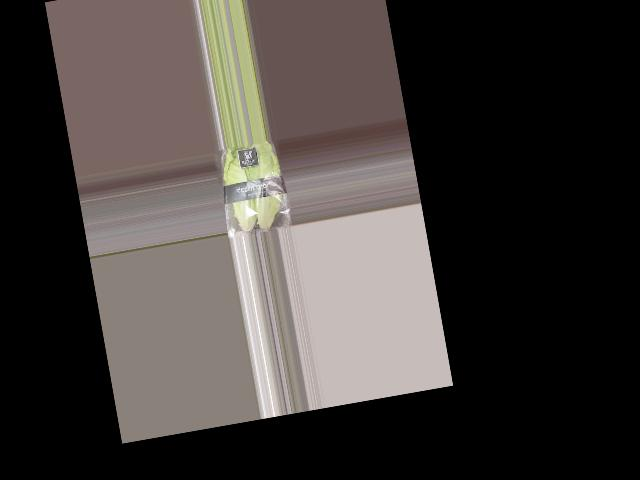lettuce: (213, 140, 288, 238)
